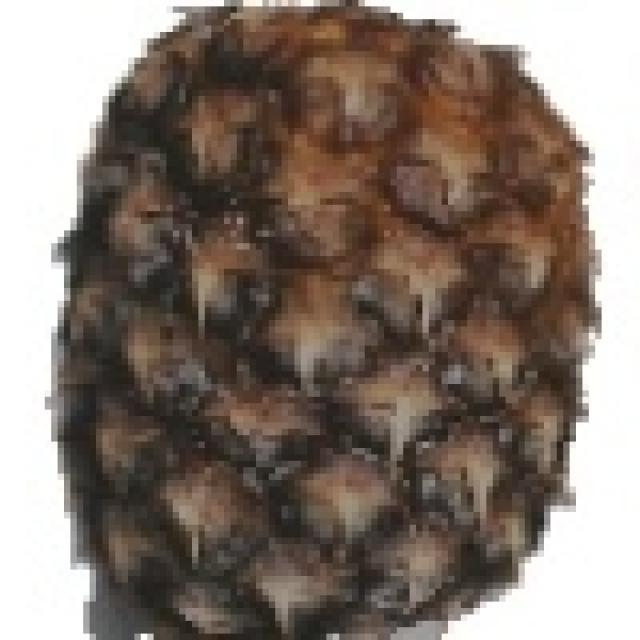pineapple: (54, 0, 596, 640)
